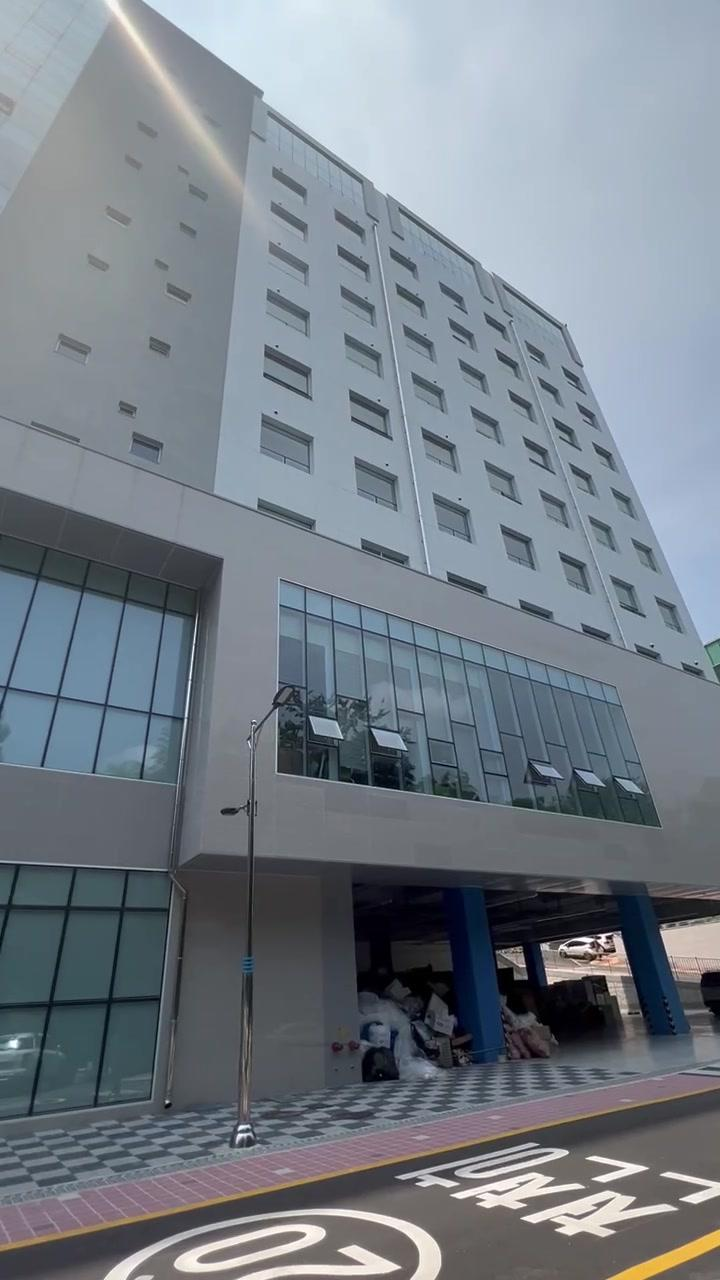building: (44, 64, 720, 886)
